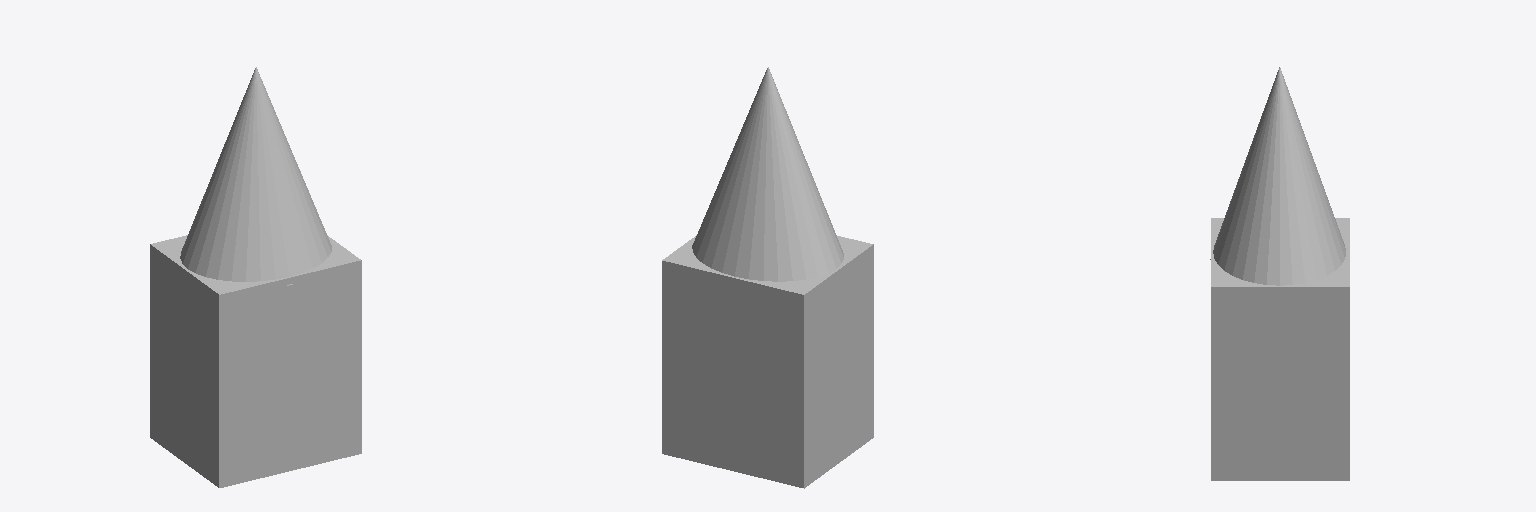
Rendered from untaladro.obj.
The picture shows the model from 3 angles: view 1: azimuth 30°, elevation 25°; view 2: azimuth 150°, elevation 25°; view 3: azimuth 270°, elevation 25°; orthographic projection.
Parts seen in each view (by area): view 1: Cone.001_Cone.007; view 2: Cone.001_Cone.007; view 3: Cone.001_Cone.007.
Boxes of the visible parts, x1=… form: Cone.001_Cone.007: x1=150, y1=67, x2=361, y2=487; Cone.001_Cone.007: x1=662, y1=67, x2=873, y2=488; Cone.001_Cone.007: x1=1210, y1=67, x2=1349, y2=480.
Size of the model in its own units: 33.71 by 86.07 by 28.57.